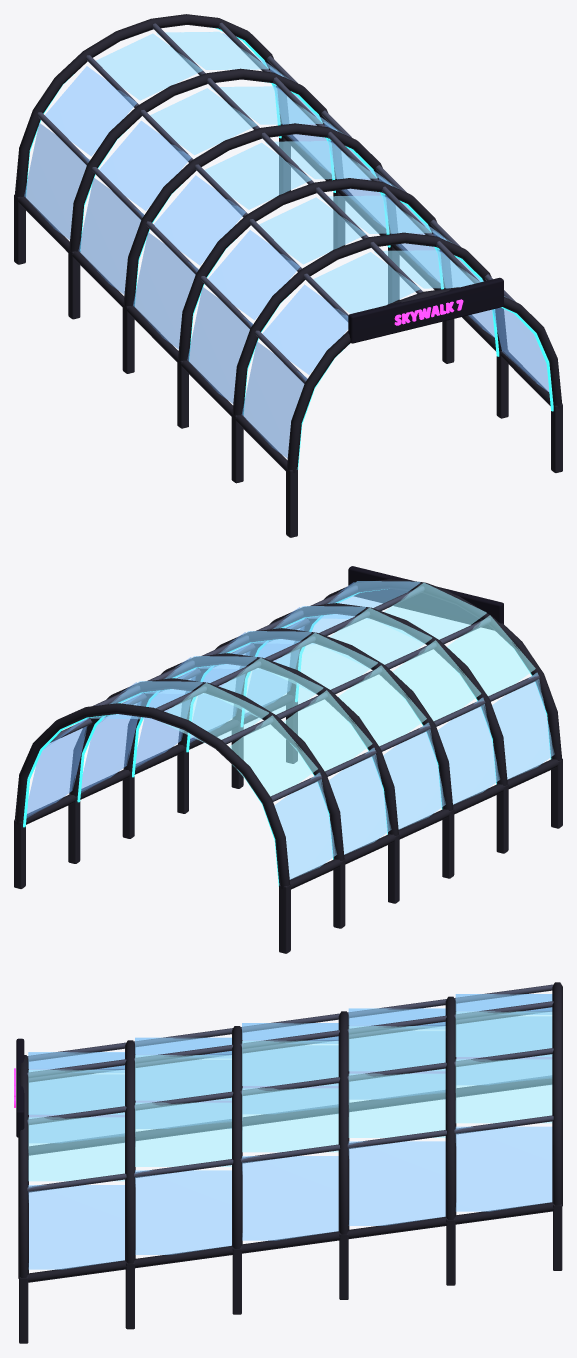
Rendered from neon_skybridge.glb.
3 views of the same model, one above another, from view 1: azimuth 30°, elevation 25°; view 2: azimuth 150°, elevation 25°; view 3: azimuth 270°, elevation 25° (orthographic).
Visible parts, largest first — view 1: SkyBridgeCanopy; view 2: SkyBridgeCanopy; view 3: SkyBridgeCanopy.
Boxes of the visible parts, box(x1,y1,x2,y2) form: SkyBridgeCanopy: box(14, 14, 562, 537); SkyBridgeCanopy: box(14, 566, 562, 953); SkyBridgeCanopy: box(14, 982, 562, 1343).
Size of the model in its own units: 4.64 by 4.62 by 8.22.
